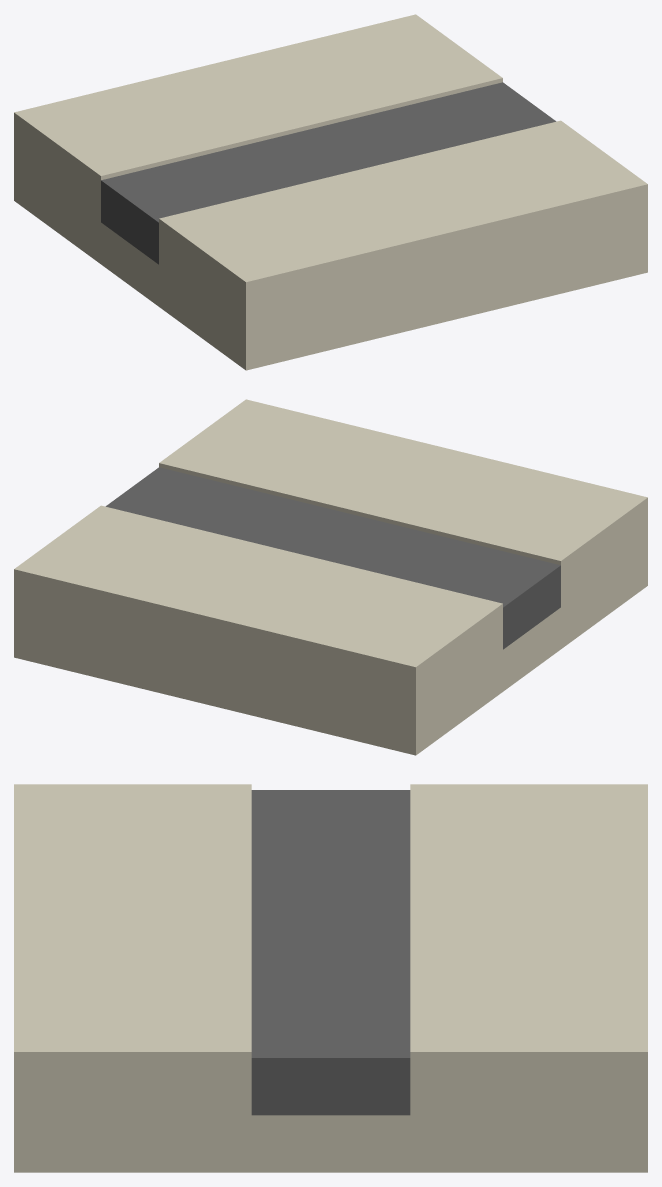
File: roadTile_271.fbx
3 renders of one model, top to bottom at view 1: azimuth 30°, elevation 25°; view 2: azimuth 150°, elevation 25°; view 3: azimuth 270°, elevation 25°, orthographic. The views are drawn at different scales.
Visible parts, largest first — view 1: roadTile_271; view 2: roadTile_271; view 3: roadTile_271.
Boxes of the visible parts, left/top/right/bottom form: roadTile_271: left=14, top=14, right=647, bottom=370; roadTile_271: left=14, top=399, right=647, bottom=755; roadTile_271: left=14, top=784, right=647, bottom=1172.
Bounding box in the file's own units: 118 × 24.8 × 118.
